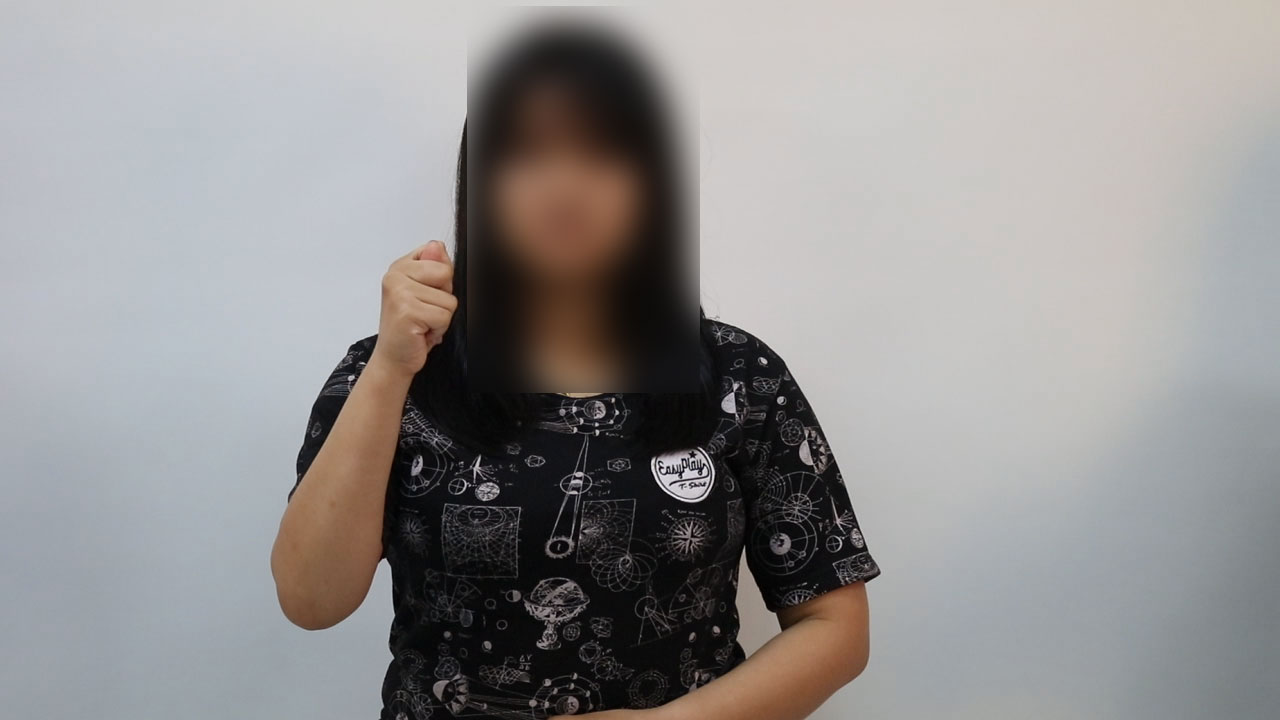tor: (361, 230, 473, 382)
